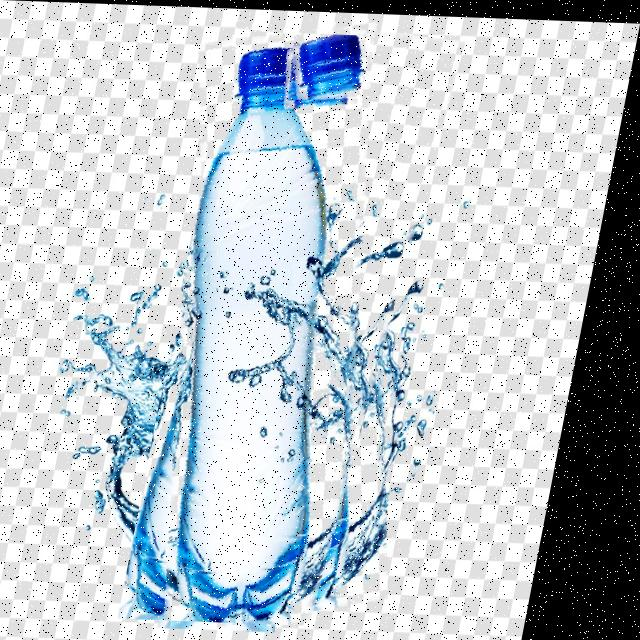litter: (142, 12, 469, 624), (285, 31, 374, 100)
